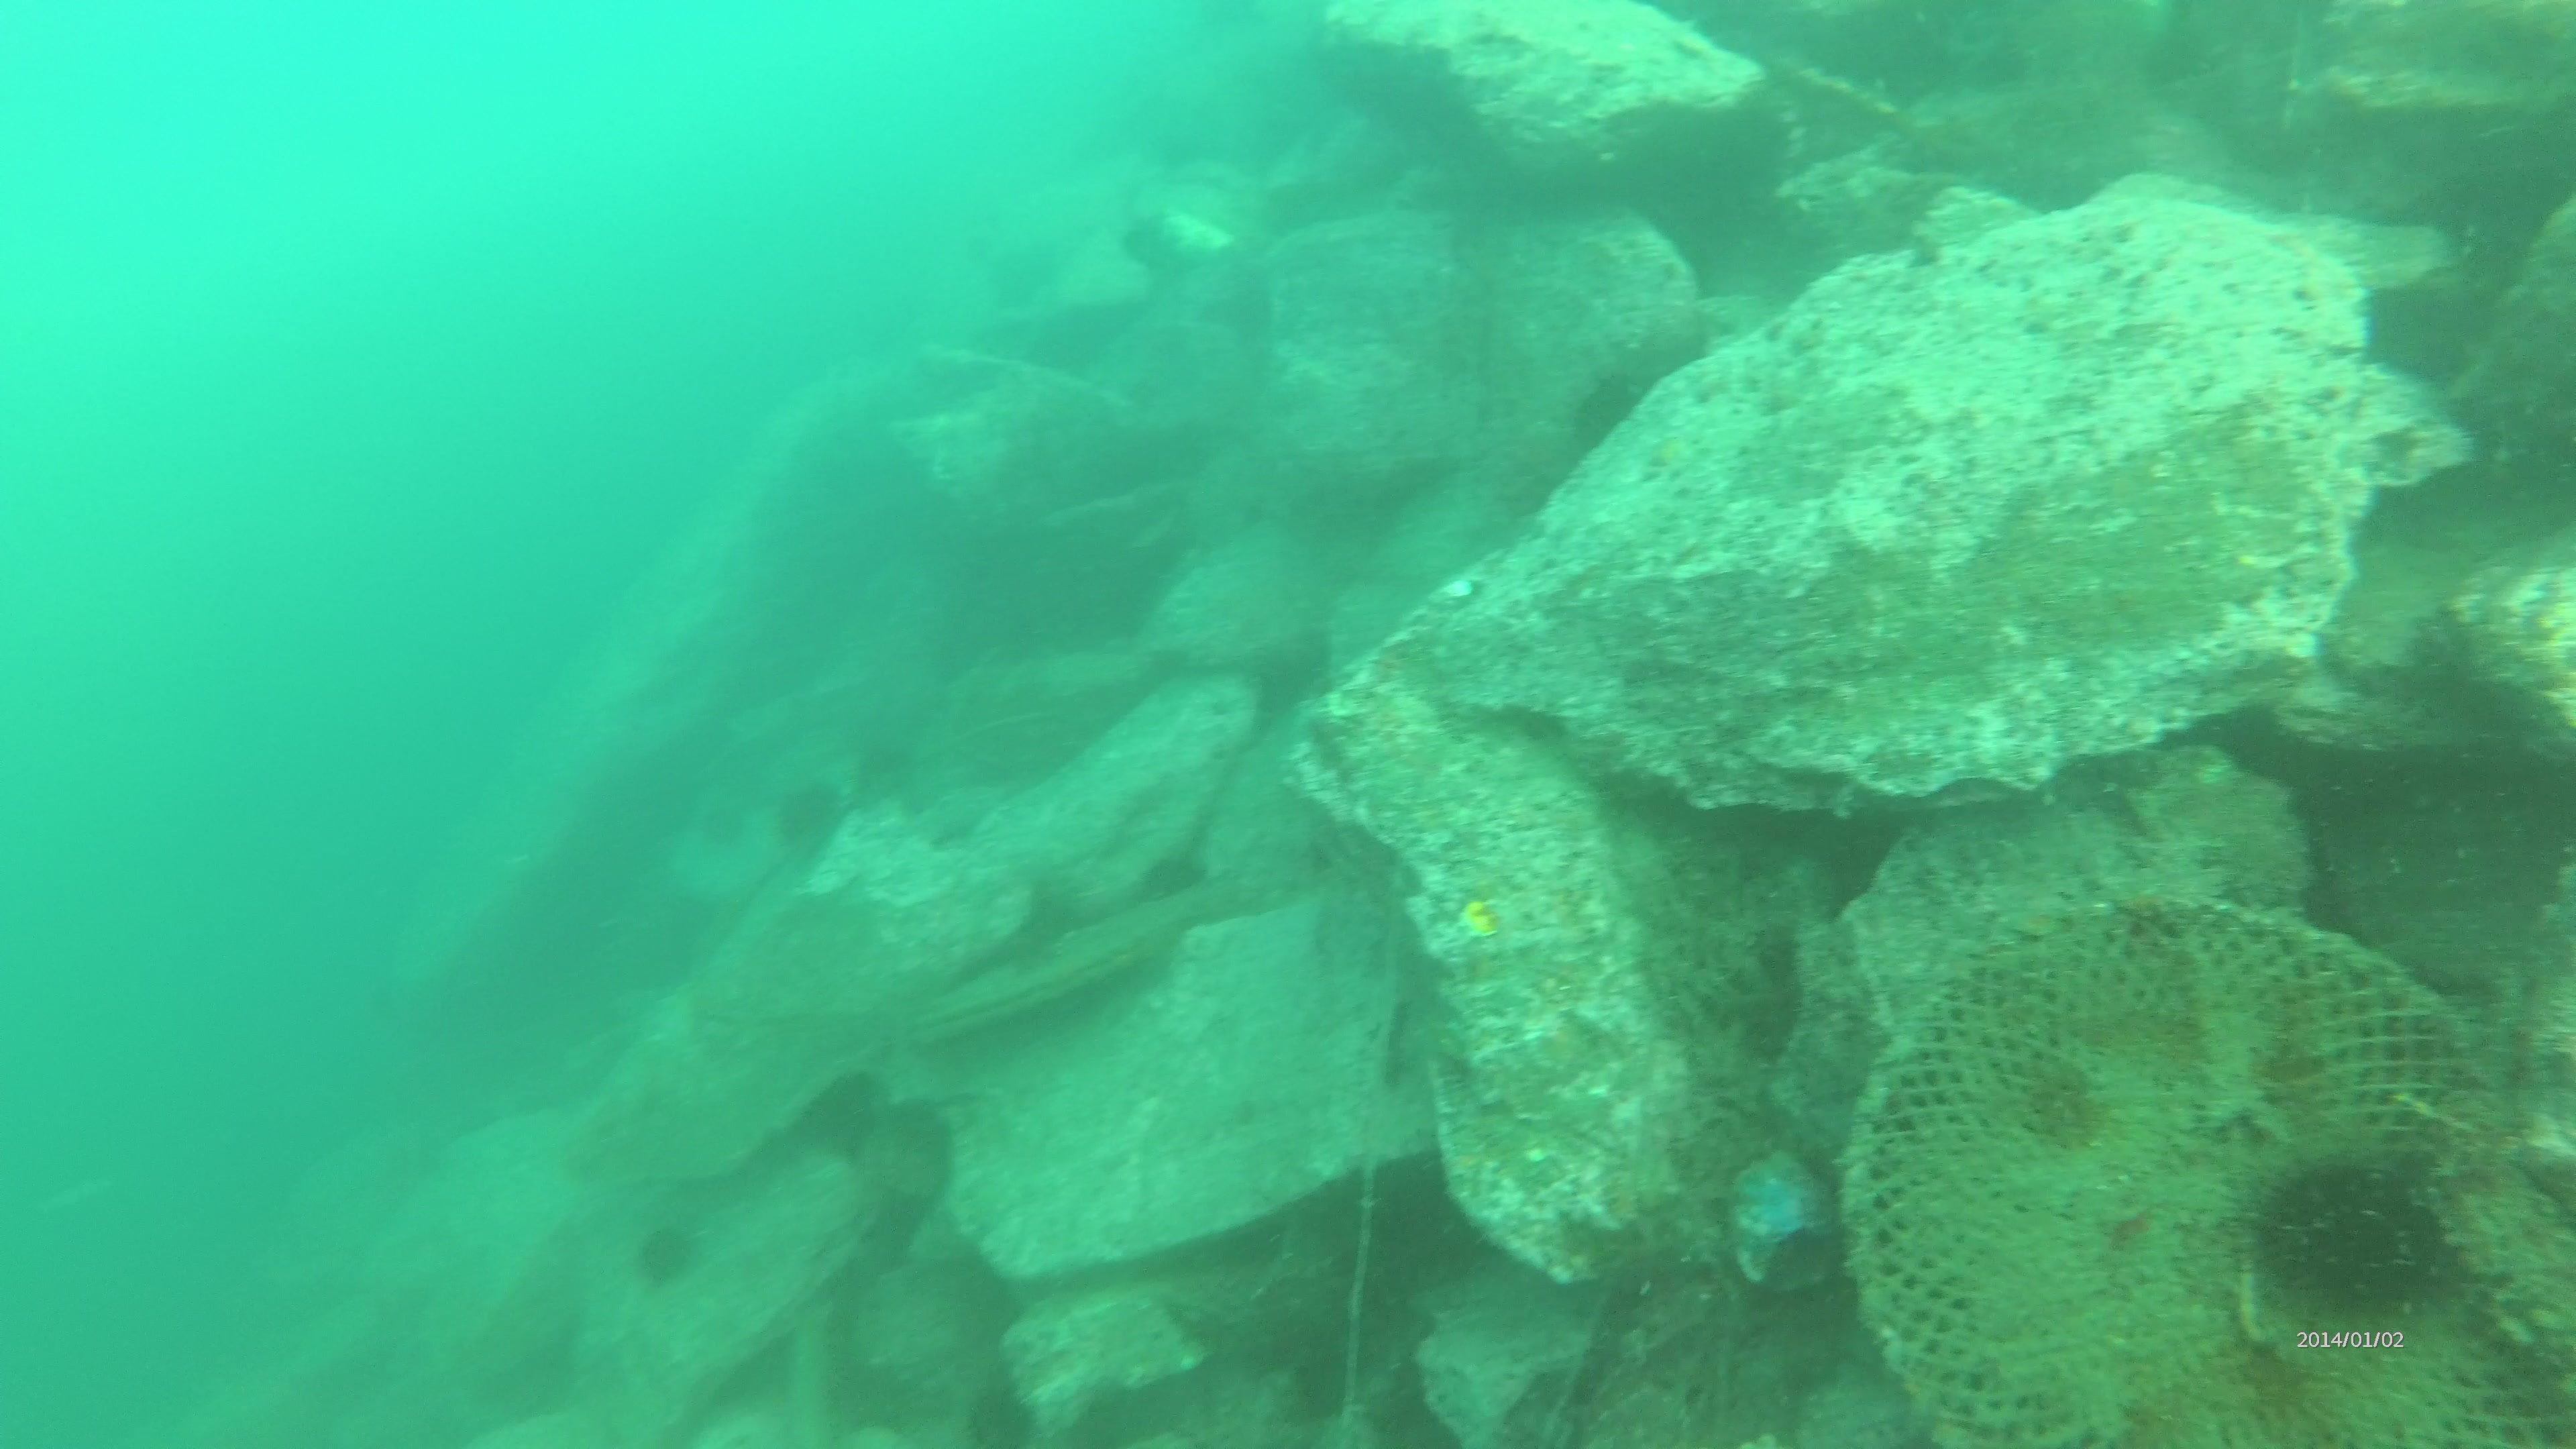echinus: (2252, 1134, 2454, 1338), (1552, 357, 1660, 453), (775, 793, 847, 863), (628, 1237, 701, 1292)
